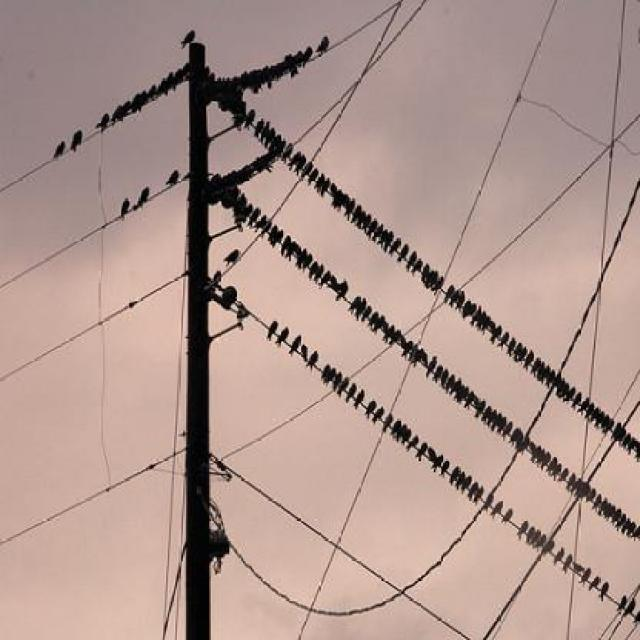pole: (160, 24, 266, 640)
